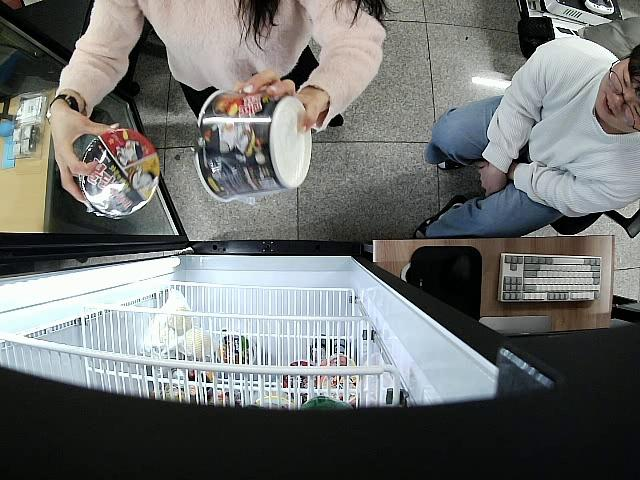00_hand: (48, 101, 121, 204), (230, 70, 319, 136)
07_buldak_L: (195, 87, 311, 201), (79, 129, 159, 219)
